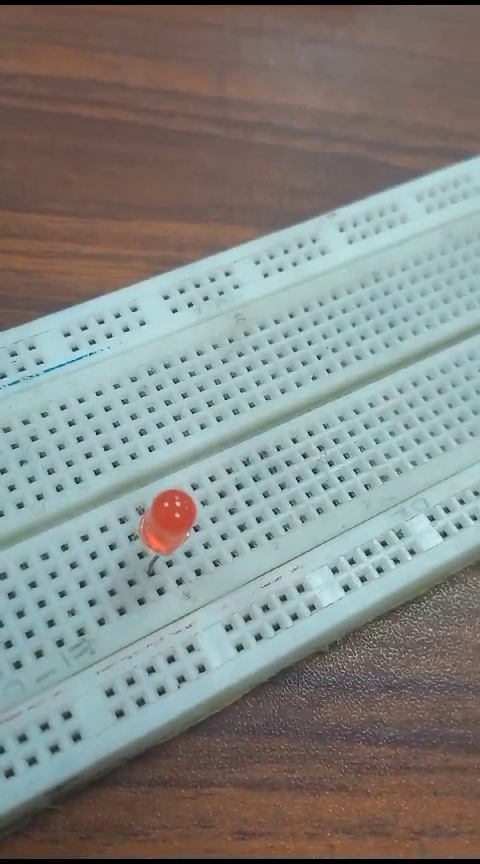LED: (130, 492, 210, 568)
